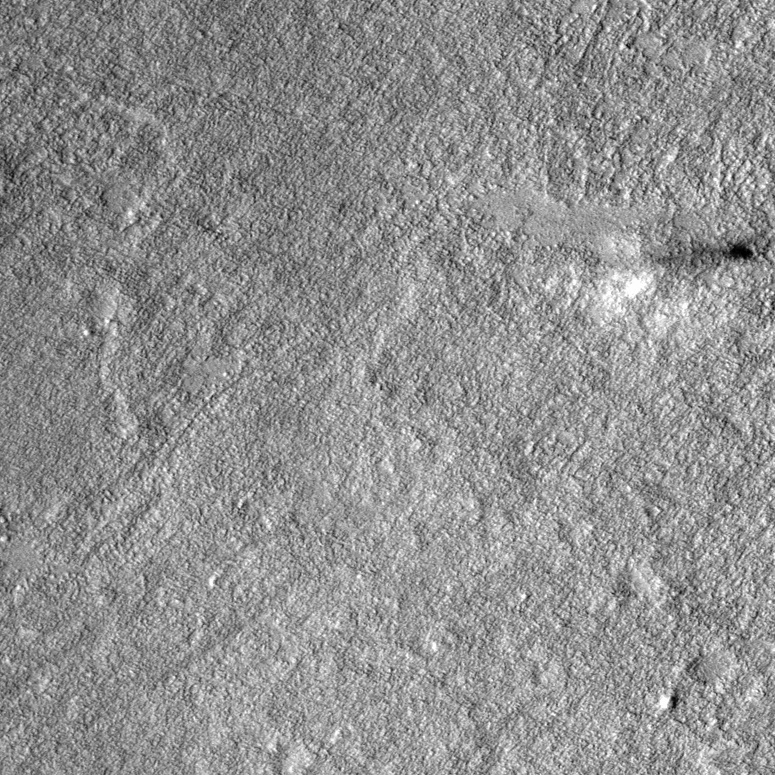dust_devil: (587, 229, 754, 313)
